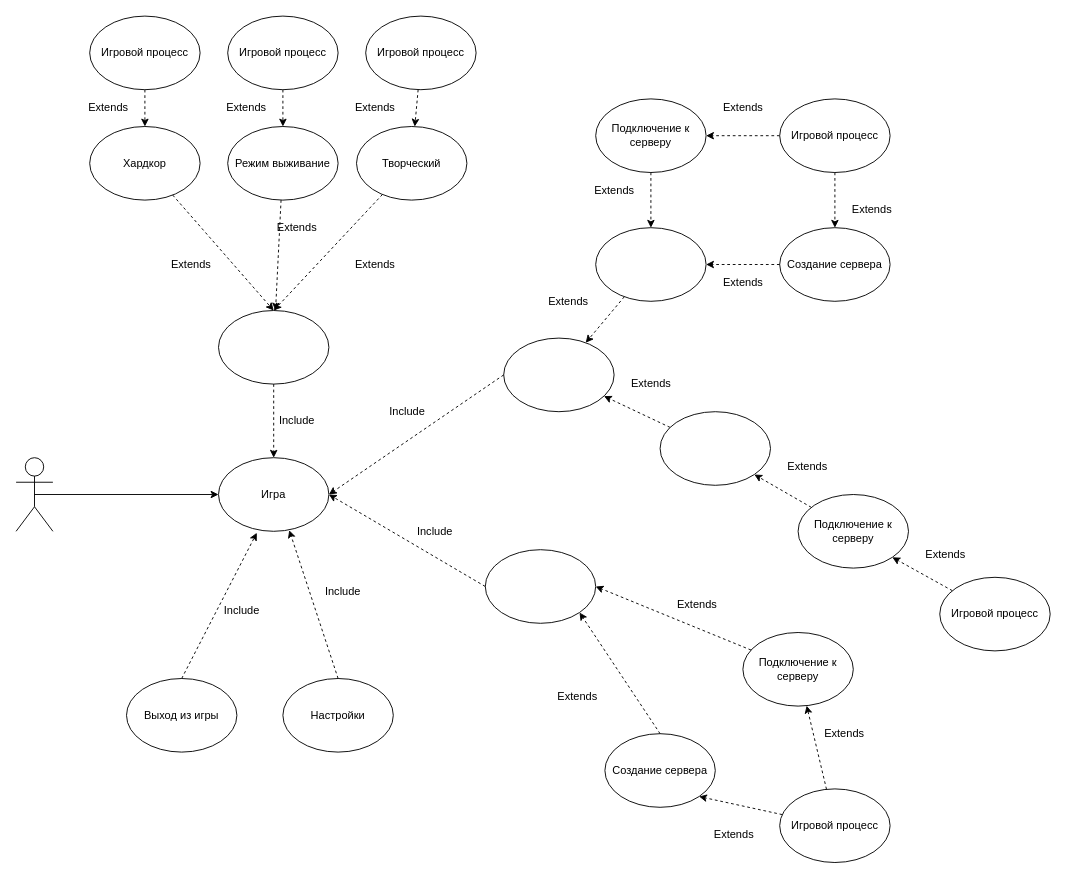
Image size: 1066x879. Some labels were removed from this diagram. Here are the shapes that lost their labels. From the top down, the box of each, then its label:
(595, 227, 706, 301): Локальный сервер
(218, 310, 329, 384): Одиночный режим
(503, 337, 614, 412): Мультиплеер
(659, 411, 770, 485): Внешний сервер
(15, 457, 53, 531): Игрок
(484, 549, 596, 623): Minecraft Realms
